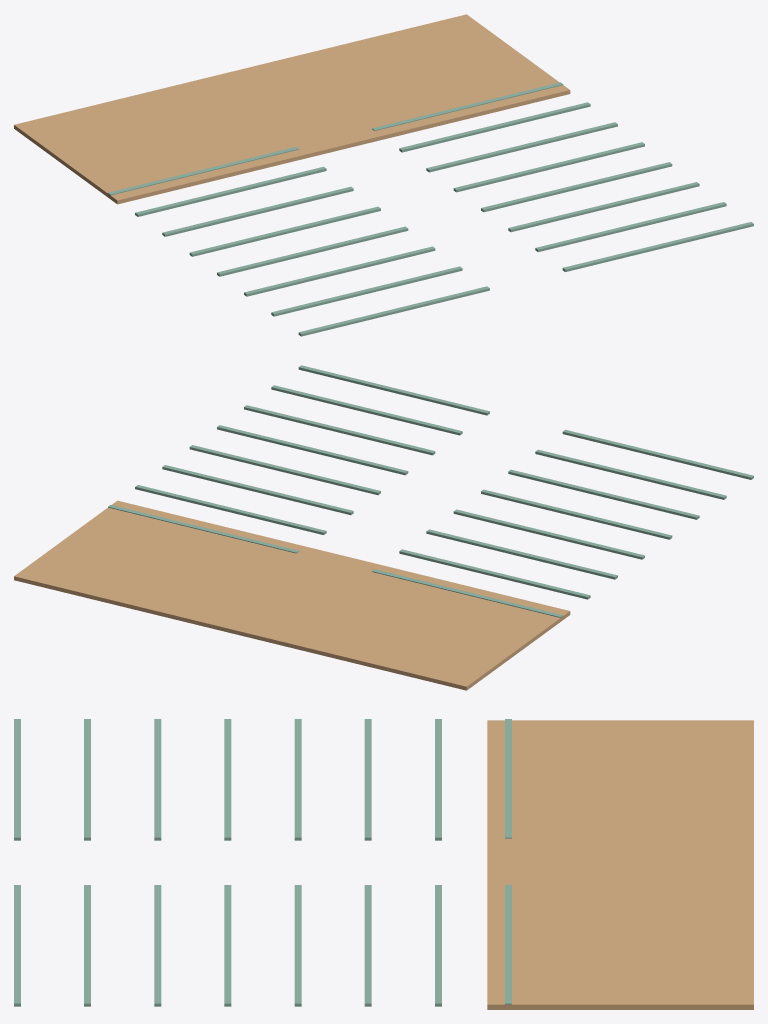
File: stairwell-marker.glb
The picture shows the model from 3 angles, top to bottom: view 1: azimuth 30°, elevation 25°; view 2: azimuth 150°, elevation 25°; view 3: azimuth 270°, elevation 25°; orthographic projection. The views are drawn at different scales.
Bounding box in the file's own units: 2.4 × 0.024 × 2.64.
